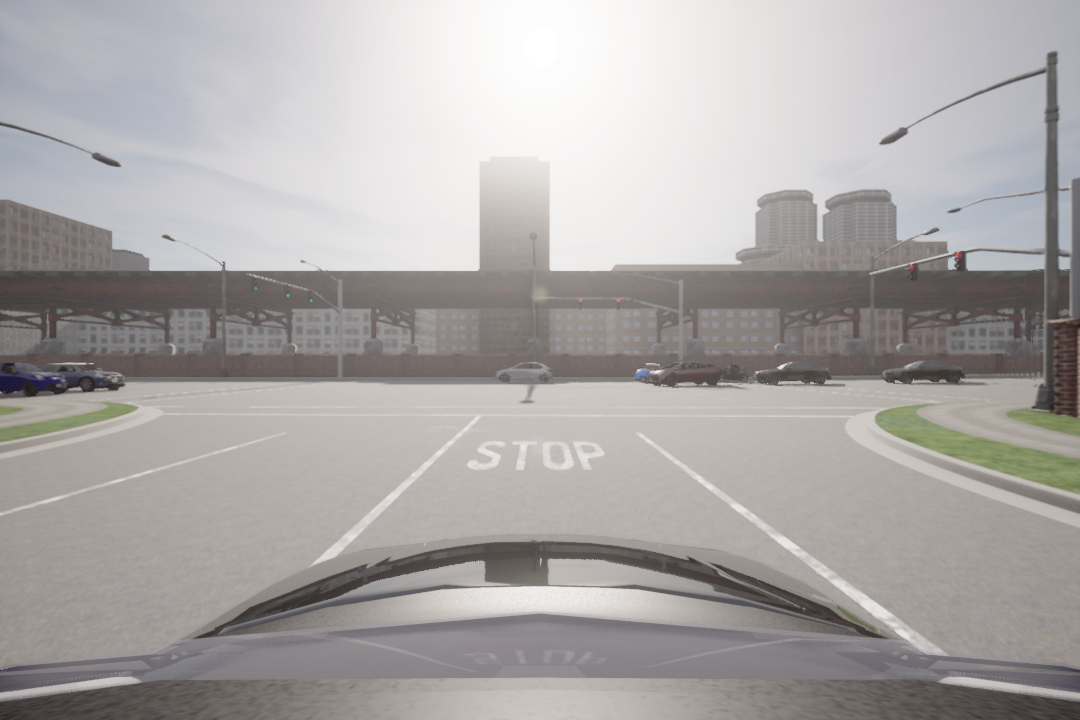TrafficLight: (952, 249, 967, 273), (906, 261, 920, 284), (249, 274, 257, 294), (282, 284, 292, 300), (305, 289, 314, 306), (576, 297, 583, 312), (613, 298, 621, 311)
